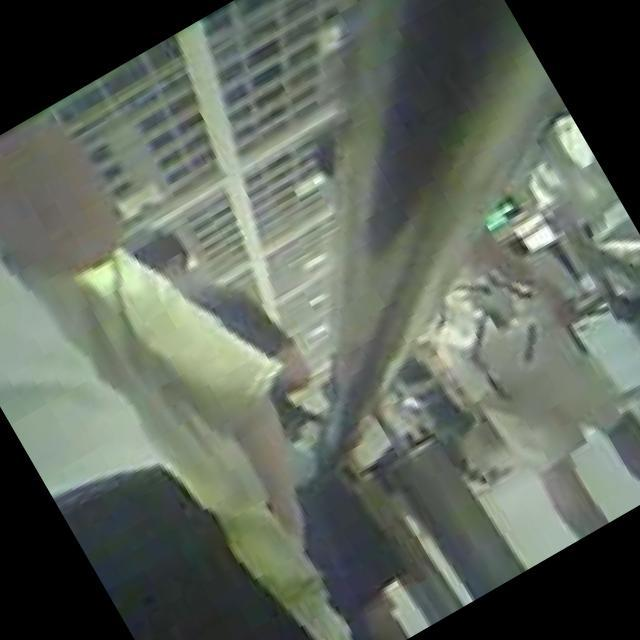person: (0, 57, 457, 640), (0, 76, 420, 640), (0, 101, 372, 640), (406, 227, 640, 556), (496, 97, 640, 474)
